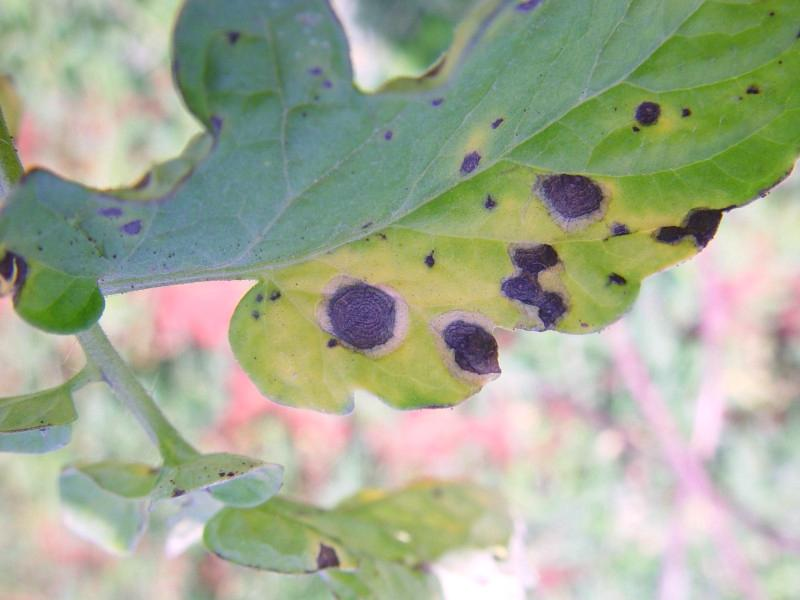Tomato Early blight leaf: (1, 5, 800, 417), (208, 498, 363, 574)
